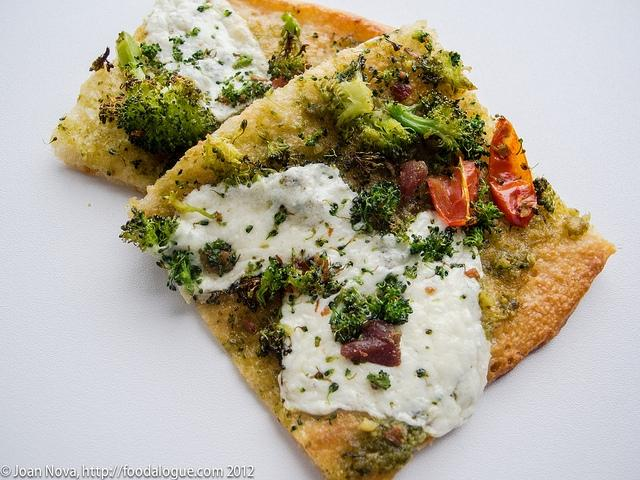broccoli: (99, 30, 219, 154), (238, 246, 354, 310), (304, 54, 376, 144), (380, 88, 473, 152), (202, 134, 276, 192), (351, 110, 420, 169), (328, 286, 384, 345), (350, 180, 404, 238), (118, 206, 180, 254), (267, 13, 310, 82), (416, 49, 478, 93), (156, 248, 207, 294), (375, 272, 412, 326), (409, 226, 459, 264), (255, 322, 292, 370), (214, 79, 253, 108), (532, 177, 560, 213), (268, 138, 290, 168), (169, 36, 186, 62), (140, 41, 162, 60), (471, 212, 480, 222)
tomato: (488, 116, 540, 228), (426, 156, 480, 227)
